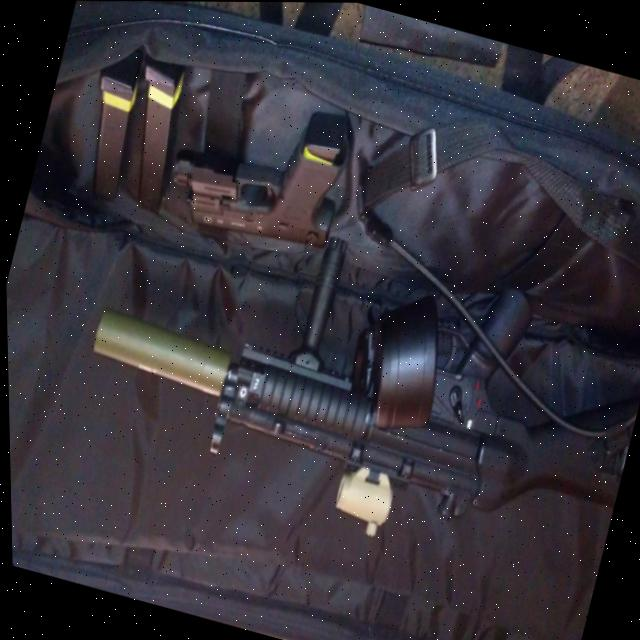firearm: (56, 175, 640, 602)
pistol: (154, 70, 359, 264)
